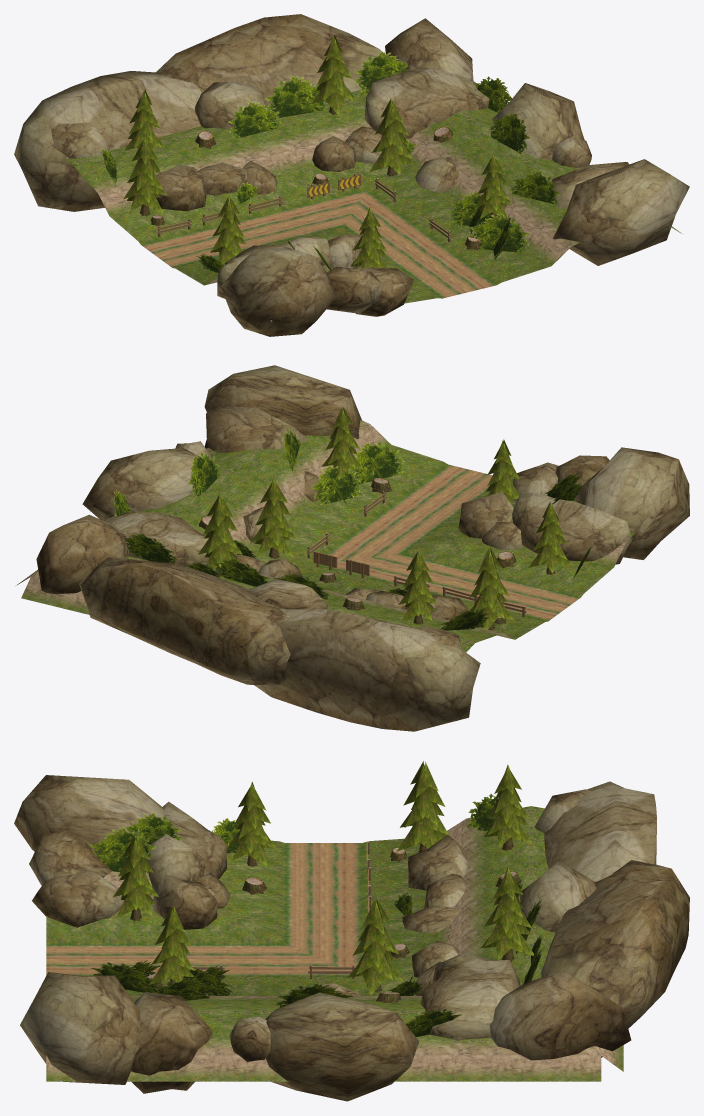
Rendered from BikeRoad017.FBX.
The picture shows the model from 3 angles, top to bottom: view 1: azimuth 30°, elevation 25°; view 2: azimuth 150°, elevation 25°; view 3: azimuth 270°, elevation 25°; orthographic projection. The views are drawn at different scales.
Parts seen in each view (by area): view 1: Rock (×21), Ground, Tree (×7), GrassPlane (×8); view 2: Rock (×16), Ground, Tree (×7), GrassPlane (×6); view 3: Rock (×20), Ground, Tree (×7), GrassPlane (×9).
Part boxes in pixels (<box>): Rock (×21): <box>14,14,689,336</box>; Ground: <box>62,81,681,321</box>; Tree (×7): <box>123,35,512,268</box>; GrassPlane (×8): <box>227,52,560,252</box>; Rock (×16): <box>36,365,689,731</box>; Ground: <box>16,419,634,652</box>; Tree (×7): <box>198,407,572,630</box>; GrassPlane (×6): <box>124,441,489,630</box>; Rock (×20): <box>14,775,689,1101</box>; Ground: <box>46,806,623,1081</box>; Tree (×7): <box>113,761,533,995</box>; GrassPlane (×9): <box>89,794,499,1036</box>.
Bounding box in the file's own units: 4651 × 1375 × 4871.
